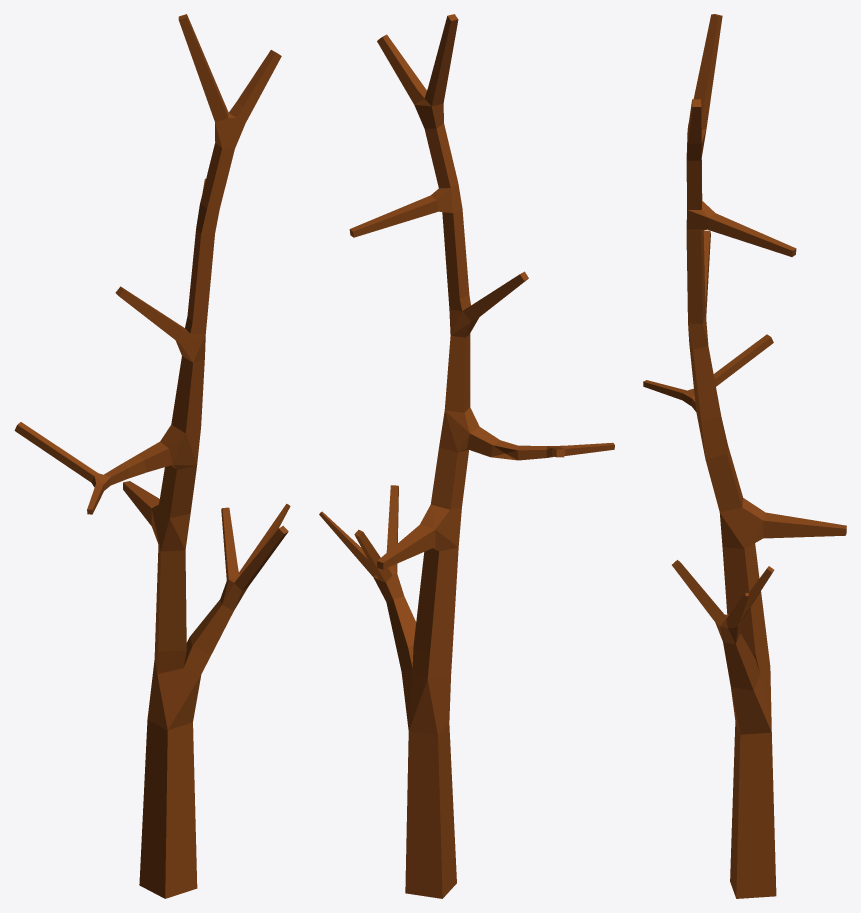
File: stick001.fbx
The picture shows the model from 3 angles, left to right: view 1: azimuth 30°, elevation 25°; view 2: azimuth 150°, elevation 25°; view 3: azimuth 270°, elevation 25°; orthographic projection. The views are drawn at different scales.
Parts seen in each view (by area): view 1: Vert; view 2: Vert; view 3: Vert.
Part boxes in pixels (x1,y1,x2,y2): Vert: [14, 14, 290, 898]; Vert: [319, 14, 614, 898]; Vert: [643, 14, 846, 898].
Bounding box in the file's own units: 104 × 334 × 70.7.
